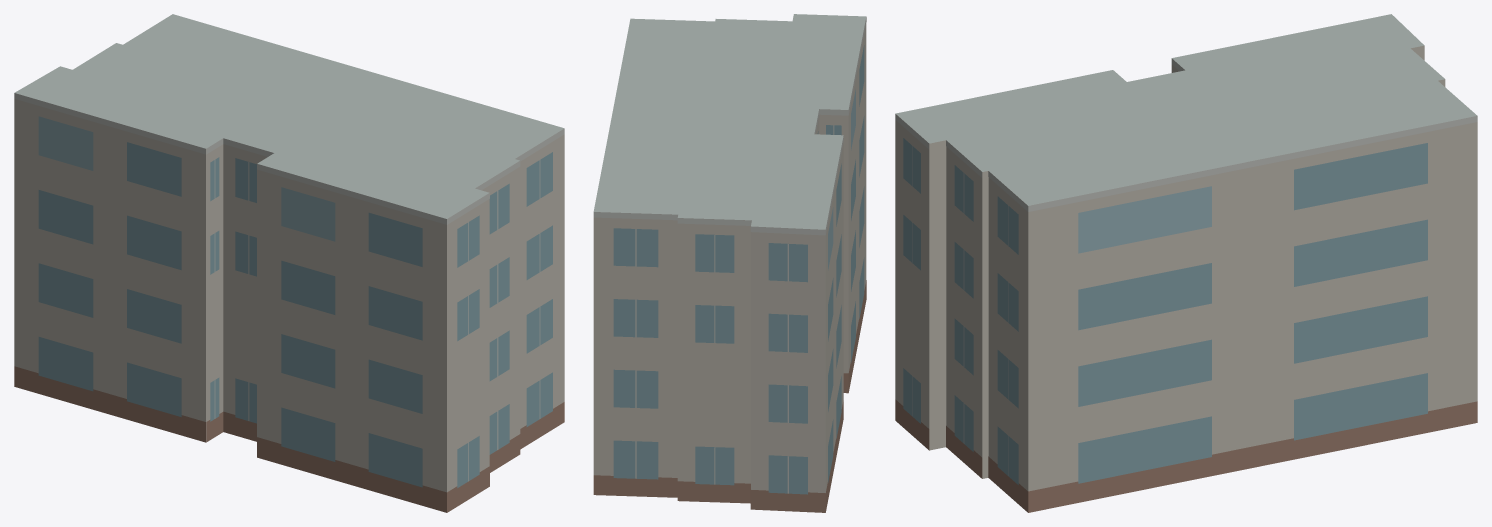
Rendered from survey-upis-32603969.glb.
3 views of the same model, side by side, from view 1: azimuth 30°, elevation 25°; view 2: azimuth 150°, elevation 25°; view 3: azimuth 270°, elevation 25° (orthographic). The views are drawn at different scales.
Visible parts, largest first — view 1: survey-upis-32603969.tmp; view 2: survey-upis-32603969.tmp; view 3: survey-upis-32603969.tmp.
Part boxes in pixels (left/top/right/bottom): survey-upis-32603969.tmp: left=14, top=14, right=564, bottom=512; survey-upis-32603969.tmp: left=593, top=14, right=866, bottom=512; survey-upis-32603969.tmp: left=895, top=14, right=1477, bottom=512.
Size of the model in its own units: 16.37 by 12.2 by 20.99.
